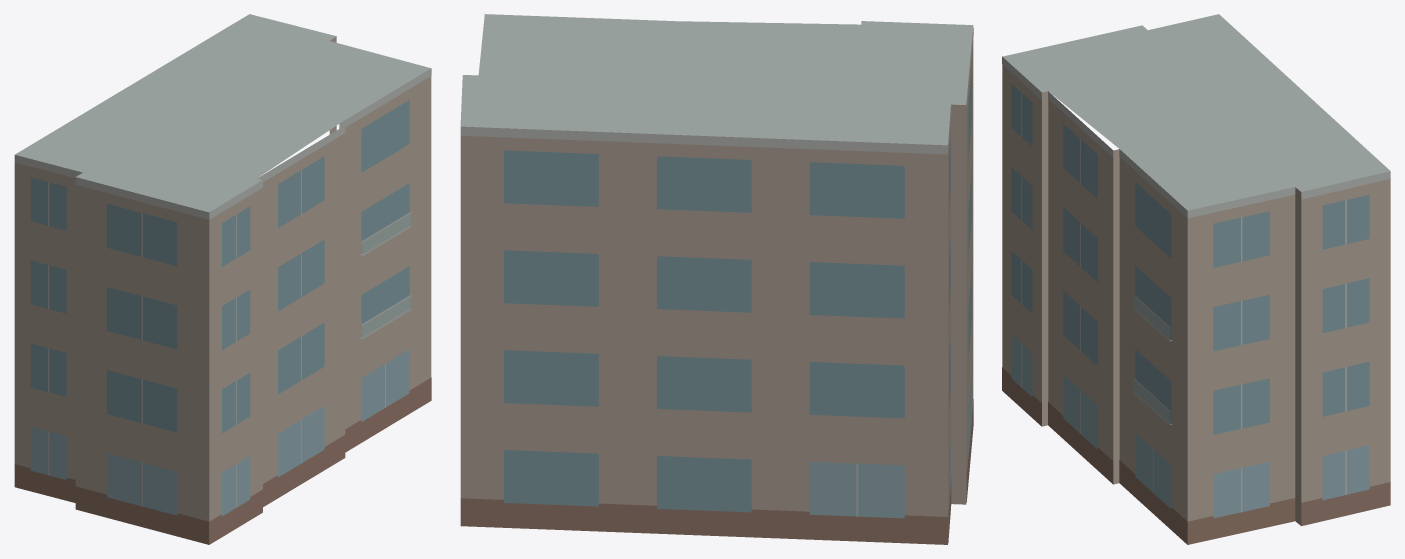
Rendered from survey-upis-32724263.glb.
The picture shows the model from 3 angles, left to right: view 1: azimuth 30°, elevation 25°; view 2: azimuth 150°, elevation 25°; view 3: azimuth 270°, elevation 25°; orthographic projection. The views are drawn at different scales.
Parts seen in each view (by area): view 1: survey-upis-32724263.tmp; view 2: survey-upis-32724263.tmp; view 3: survey-upis-32724263.tmp.
Part boxes in pixels (<box>): survey-upis-32724263.tmp: <box>14,14,431,544</box>; survey-upis-32724263.tmp: <box>460,14,973,544</box>; survey-upis-32724263.tmp: <box>1002,14,1390,544</box>.
Bounding box in the file's own units: 13.52 × 10.7 × 11.28.
